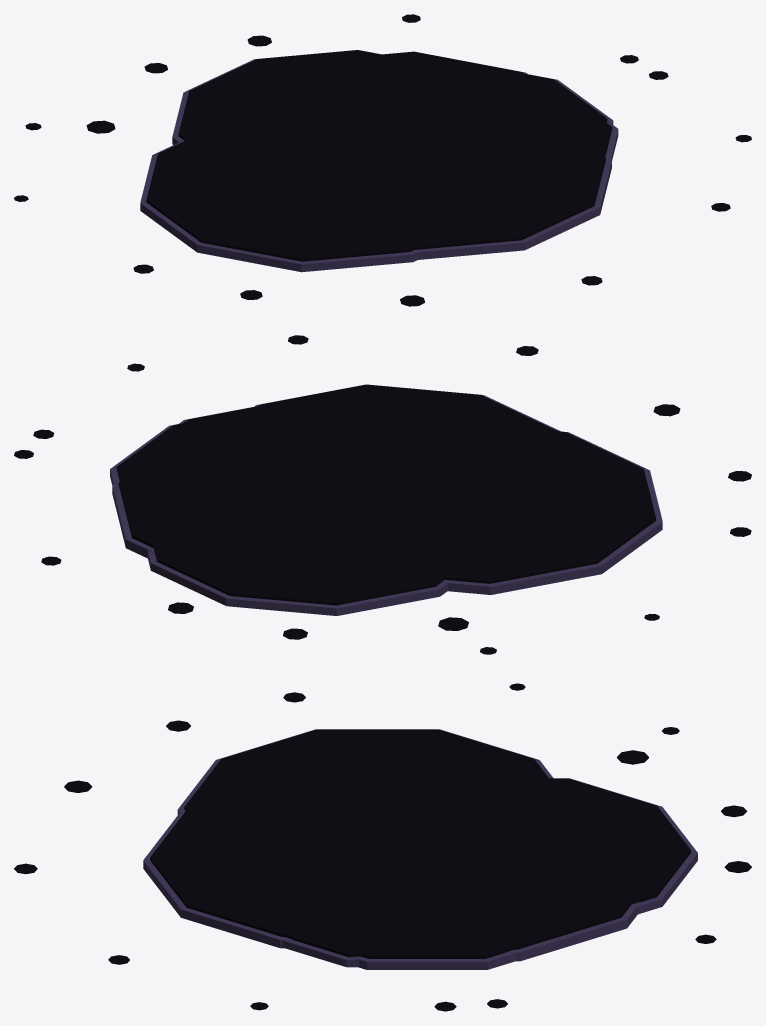
File: hero_karma_floor_60.glb
3 views of the same model, one above another, from view 1: azimuth 30°, elevation 25°; view 2: azimuth 150°, elevation 25°; view 3: azimuth 270°, elevation 25° (orthographic). The views are drawn at different scales.
Visible parts, largest first — view 1: hero_karma_floor_60; view 2: hero_karma_floor_60; view 3: hero_karma_floor_60.
Part boxes in pixels (x1,y1,x2,y2): hero_karma_floor_60: (14, 14, 751, 306); hero_karma_floor_60: (14, 335, 751, 654); hero_karma_floor_60: (14, 683, 751, 1011).
Bounding box in the file's own units: 3.42 × 0.1032 × 3.26.
